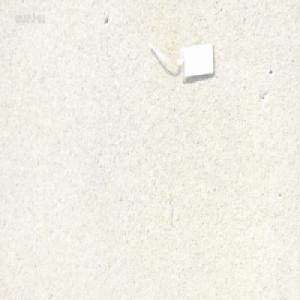LuggageTag: (144, 37, 216, 81)
